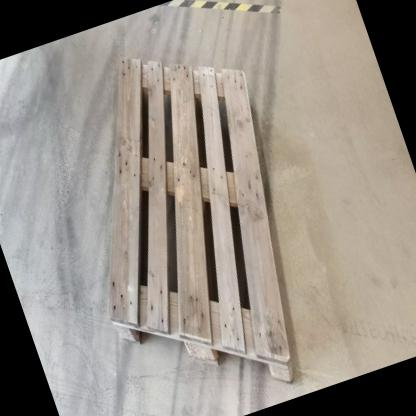BoxFace: (105, 51, 301, 390)
